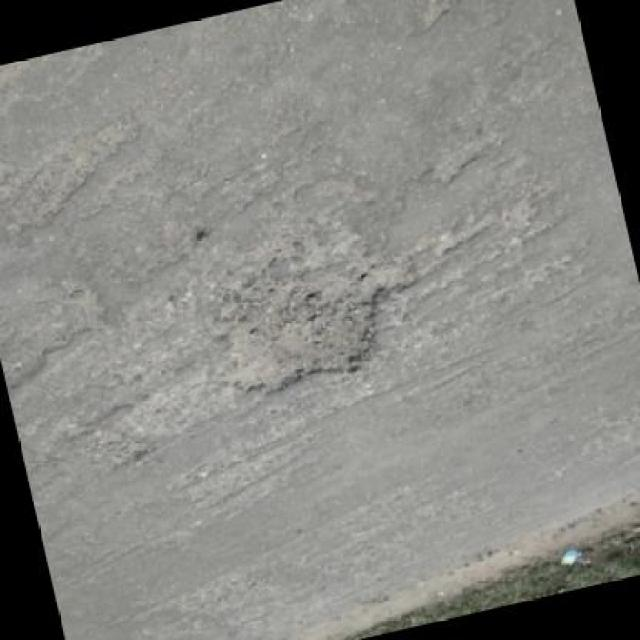pothole: (198, 246, 433, 414)
